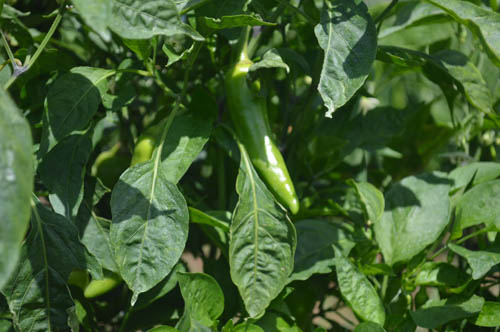ChiliPepper: (228, 61, 301, 213)
